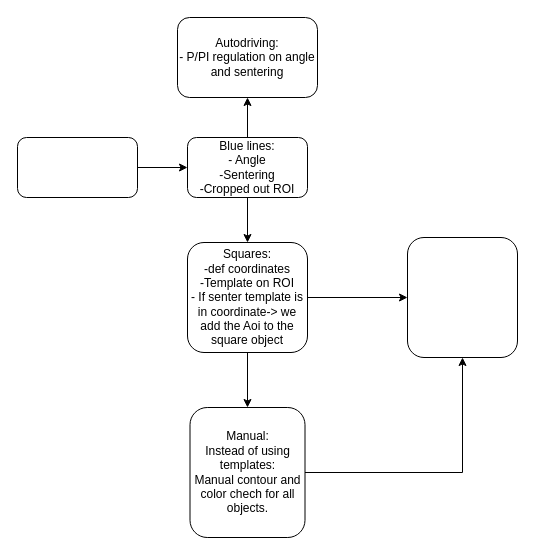
The diagram is 535 pixels wide and 555 high, and some of its shapes have lost their labels. Each missing label, with the box of its shape:
Image: (16, 136, 138, 198)
Map objeckt: drawing inn objects in map: (406, 236, 518, 358)
